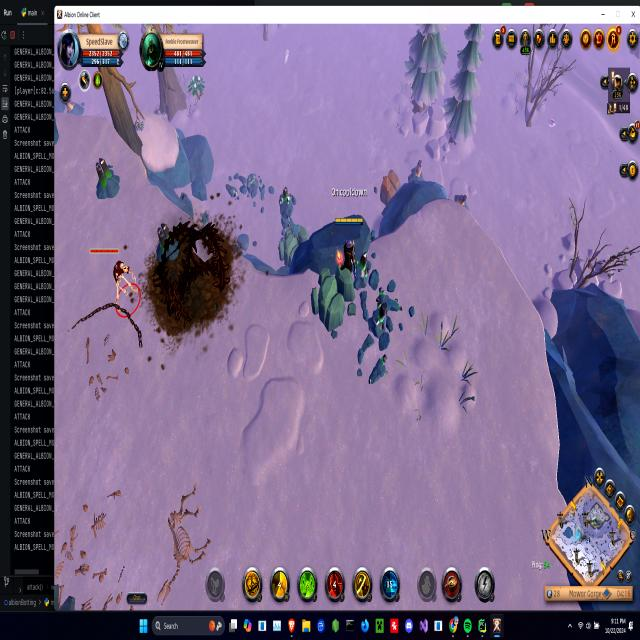hide: (186, 69, 206, 102)
ore: (89, 240, 143, 320), (275, 179, 300, 242), (92, 249, 116, 253)
player: (355, 288, 418, 392), (222, 160, 276, 212), (154, 216, 183, 267), (92, 154, 121, 203), (408, 152, 427, 186), (454, 191, 472, 212)
red: (332, 210, 368, 275)
tree: (308, 266, 348, 339), (278, 216, 310, 266), (376, 165, 404, 208)
